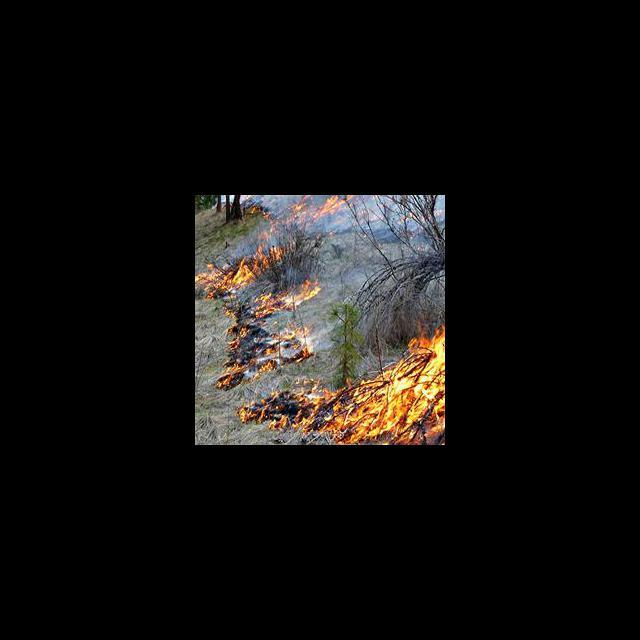Fire: (324, 328, 445, 444), (218, 322, 312, 384), (238, 376, 324, 436), (198, 246, 284, 296), (268, 196, 357, 230), (254, 277, 322, 319)
